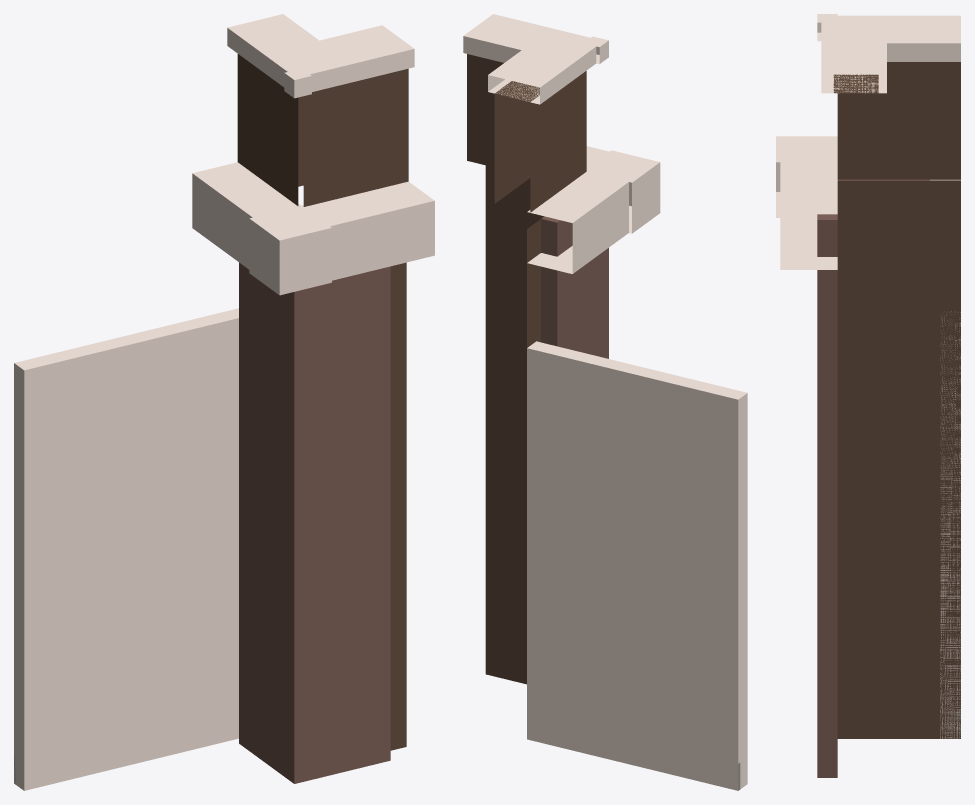
File: top-c2.fbx
The picture shows the model from 3 angles, left to right: view 1: azimuth 30°, elevation 25°; view 2: azimuth 150°, elevation 25°; view 3: azimuth 270°, elevation 25°; orthographic projection. The views are drawn at different scales.
Visible parts, largest first — view 1: a2001/800/top-c2; view 2: a2001/800/top-c2; view 3: a2001/800/top-c2.
Boxes of the visible parts, x1,y1,x2,y2 form: a2001/800/top-c2: [14, 14, 434, 790]; a2001/800/top-c2: [463, 14, 747, 790]; a2001/800/top-c2: [776, 14, 960, 777].
Size of the model in its own units: 1.9 by 3.85 by 0.9.
